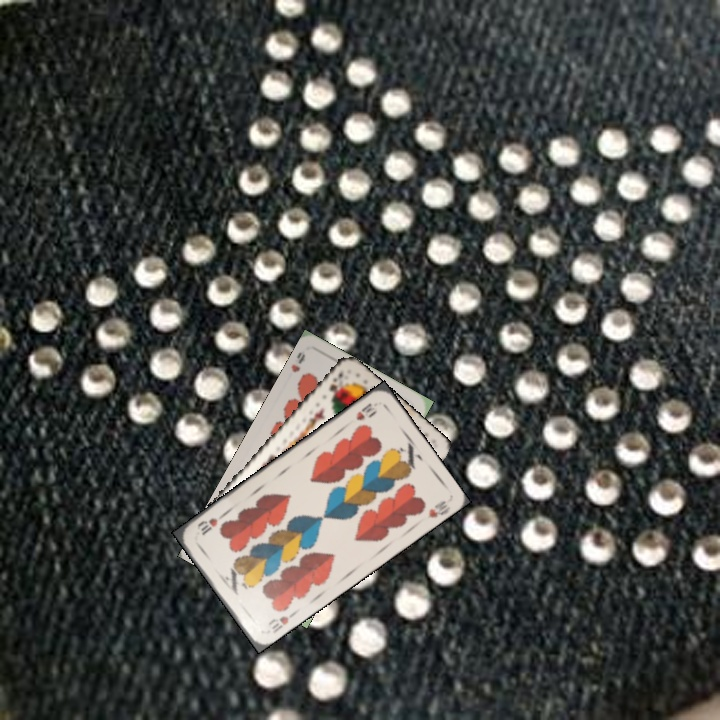H10: (264, 608, 298, 636), (352, 399, 380, 423)
H9: (287, 348, 308, 375)
SK: (325, 368, 346, 394)
